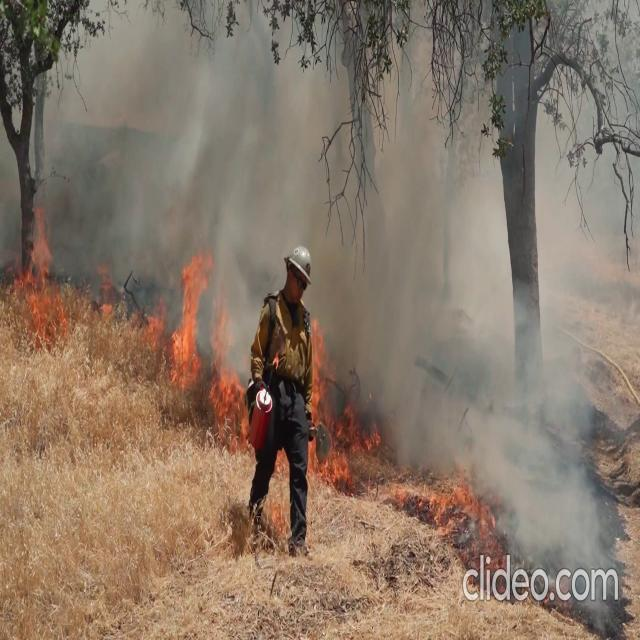Fire: (306, 308, 379, 488), (1, 200, 74, 330), (168, 244, 216, 390)
Smoke: (54, 23, 606, 373), (54, 24, 505, 321), (410, 272, 630, 588)
